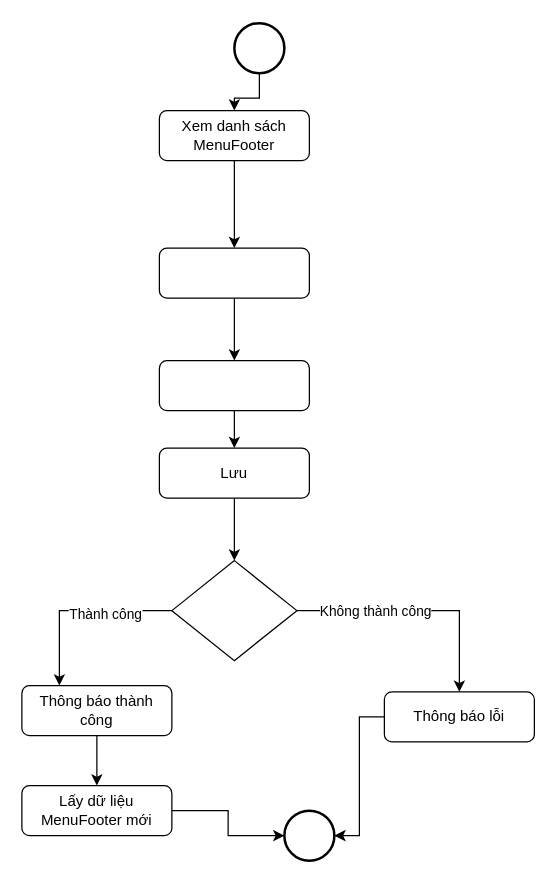
The diagram is 556 pixels wide and 883 high, and some of its shapes have lost their labels. Here are the shapes that lost their labels. From the top down, the centre of each, then its label:
At (233,272): "Thêm mới / cập nhật MenuFooter".
At (233,385): "Nhập dữ liệu".
